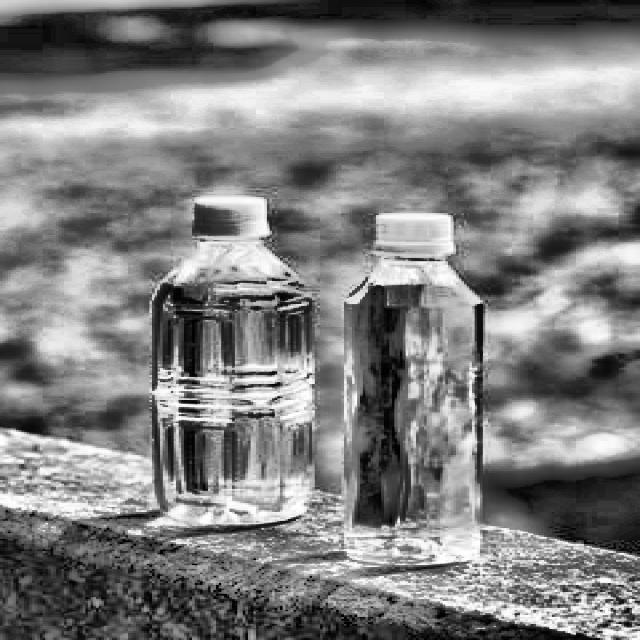waterbottle: (136, 188, 330, 530), (323, 204, 498, 580)
